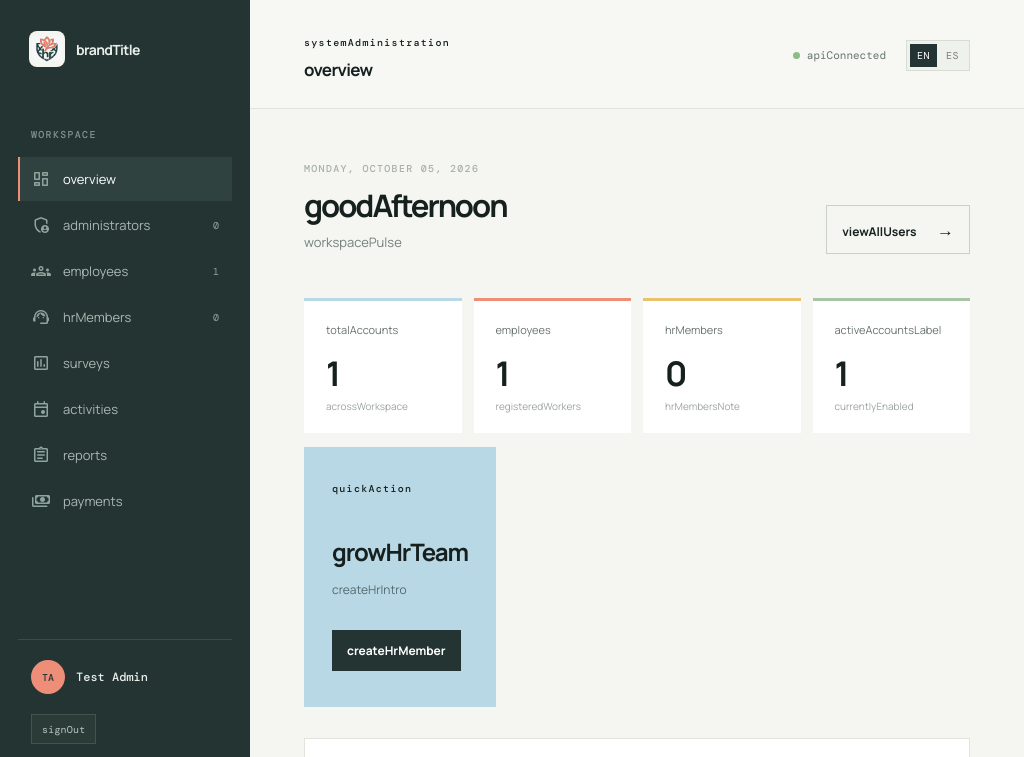
Test: [integration] src/app/App.tsx › logout clears session and returns login
Expected: the text "apiConnected" is shown, [793,48,886,62]
Click the button "signOut" at (64, 729), box [31,714,96,744]
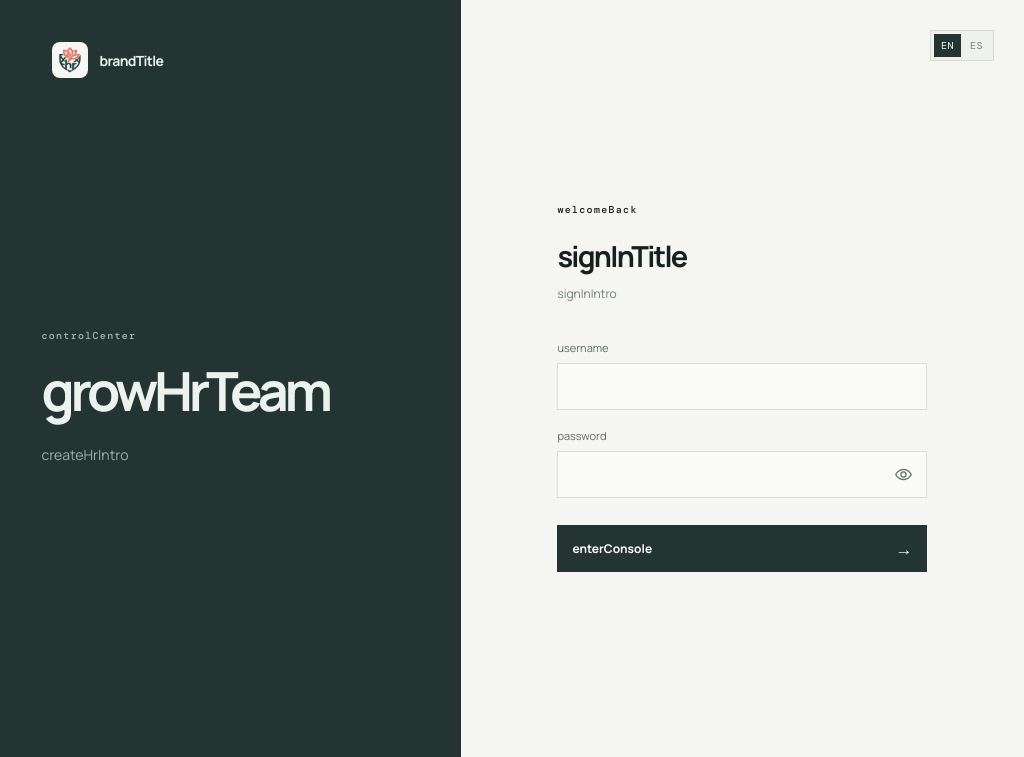
Expected: the button "enterConsole →" is shown, [557,525,927,572]
